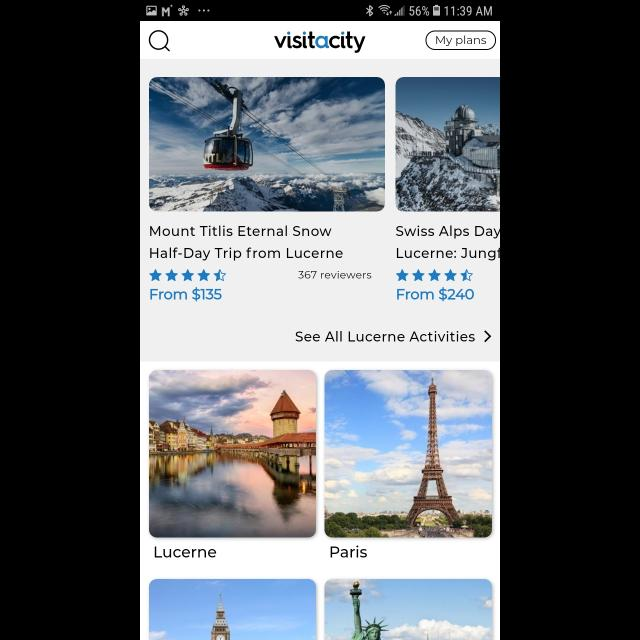icon: (150, 268, 227, 282), (396, 269, 474, 281), (150, 31, 170, 53), (484, 330, 492, 342)
image: (150, 76, 386, 212), (324, 370, 492, 538), (150, 370, 316, 538), (396, 78, 500, 212), (150, 578, 316, 640), (324, 579, 491, 640), (274, 31, 366, 53)
text: (150, 226, 344, 260), (396, 226, 500, 260), (296, 332, 476, 342), (398, 286, 474, 302), (150, 287, 222, 301), (155, 546, 217, 558), (298, 271, 372, 279), (331, 546, 367, 558)
textbutton: (426, 31, 496, 51)
uppertaskbar: (140, 1, 500, 22)
